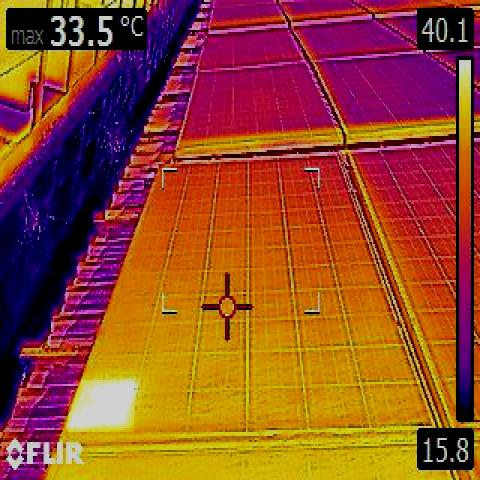fault: (68, 380, 134, 433)
